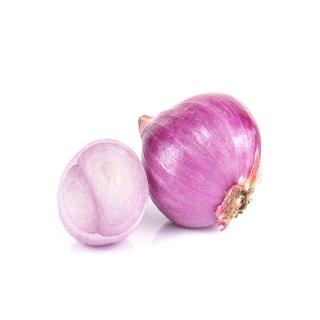Bawang Merah: (139, 86, 270, 232), (49, 131, 153, 254)
